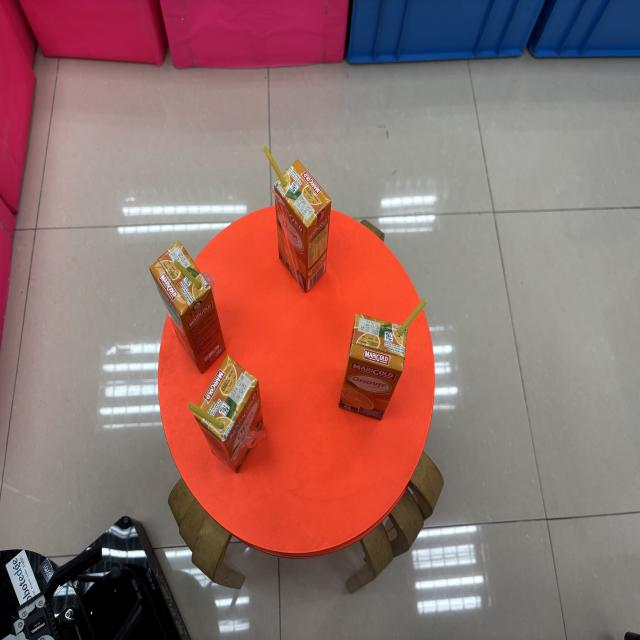drink_carton: (326, 279, 441, 447), (182, 340, 278, 498), (253, 128, 338, 306), (141, 226, 229, 374)
